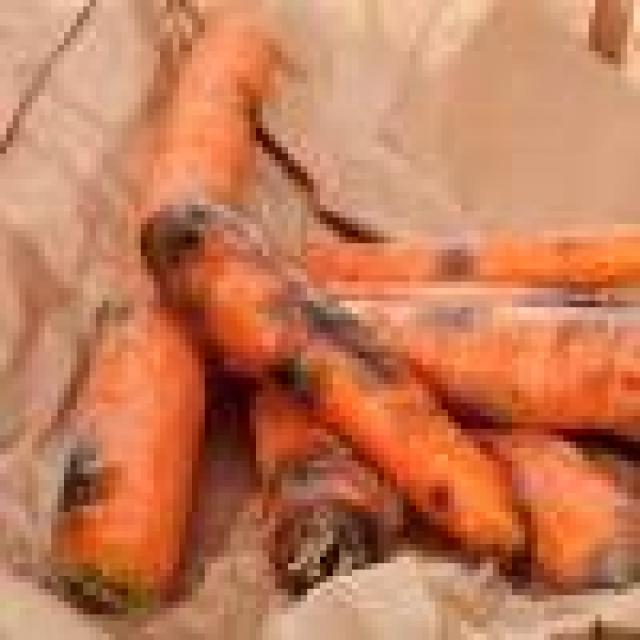Stale_Carrot: (132, 206, 558, 565), (51, 0, 277, 617), (317, 275, 640, 450)
